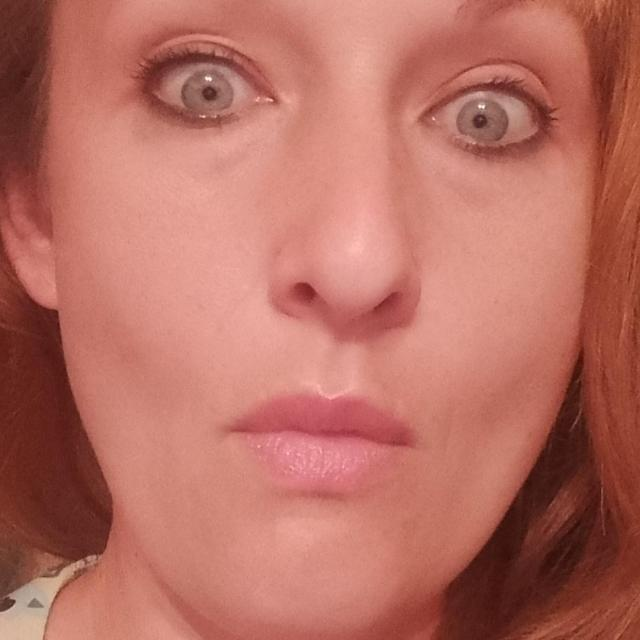Surprised: (8, 0, 637, 630)
